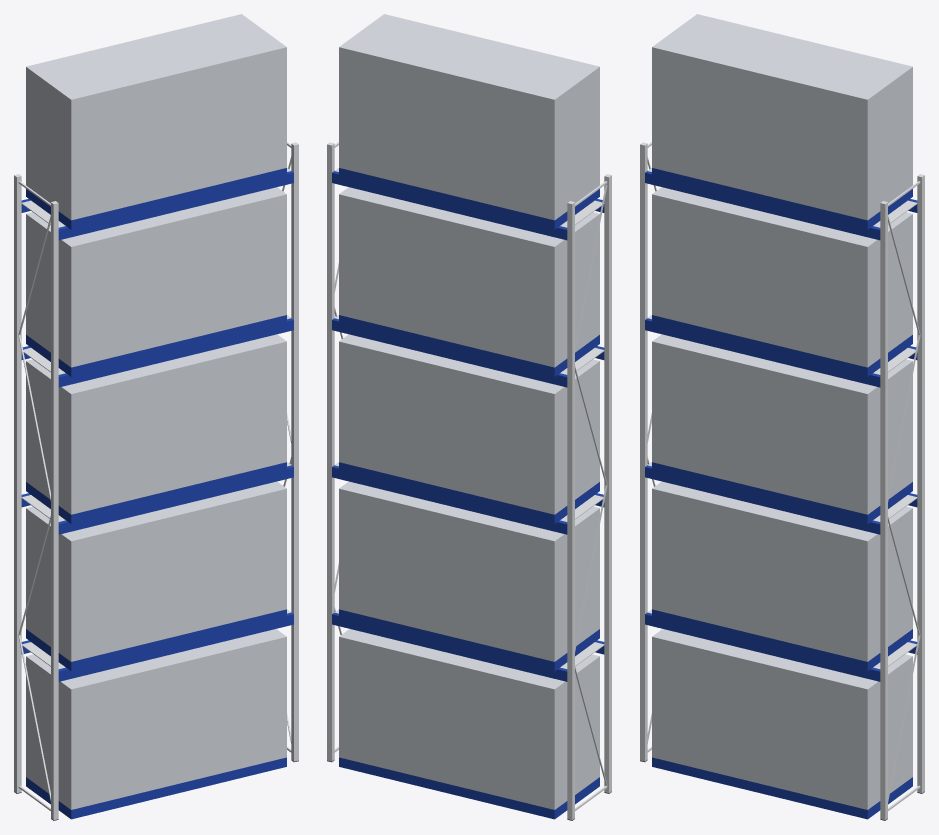
Rendered from SM_MPR_CADRack_F5_W144_Standard_LOD2.fbx.
The picture shows the model from 3 angles, left to right: view 1: azimuth 30°, elevation 25°; view 2: azimuth 150°, elevation 25°; view 3: azimuth 330°, elevation 25°; orthographic projection.
Visible parts, largest first — view 1: SM_MPR_CADRack_F5_W144_Standard_LOD2; view 2: SM_MPR_CADRack_F5_W144_Standard_LOD2; view 3: SM_MPR_CADRack_F5_W144_Standard_LOD2.
Boxes of the visible parts, box(x1,y1,x2,y2) form: SM_MPR_CADRack_F5_W144_Standard_LOD2: box(14, 14, 298, 820); SM_MPR_CADRack_F5_W144_Standard_LOD2: box(327, 14, 611, 820); SM_MPR_CADRack_F5_W144_Standard_LOD2: box(640, 14, 924, 820).
Size of the model in its own units: 381 by 122 by 1068.
